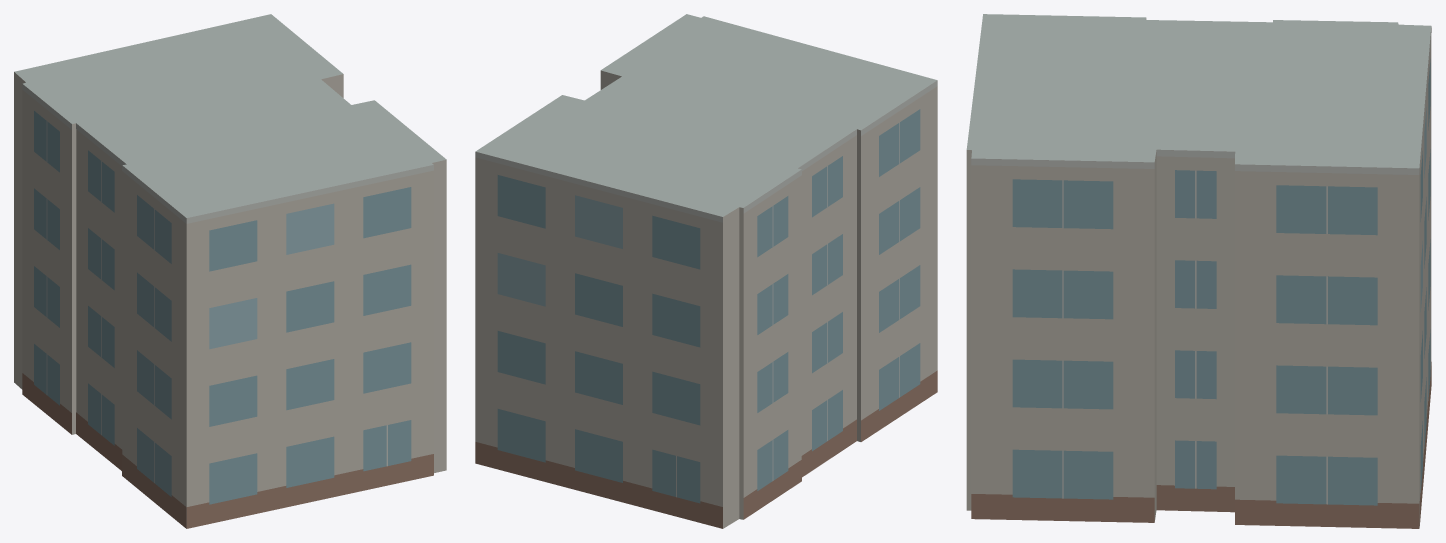
File: survey-upis-32664940.glb
The picture shows the model from 3 angles, left to right: view 1: azimuth 30°, elevation 25°; view 2: azimuth 150°, elevation 25°; view 3: azimuth 270°, elevation 25°; orthographic projection. The views are drawn at different scales.
Visible parts, largest first — view 1: survey-upis-32664940.tmp; view 2: survey-upis-32664940.tmp; view 3: survey-upis-32664940.tmp.
Part boxes in pixels (x1,y1,x2,y2): survey-upis-32664940.tmp: [14, 14, 446, 528]; survey-upis-32664940.tmp: [475, 14, 937, 528]; survey-upis-32664940.tmp: [966, 14, 1431, 528].
Bounding box in the file's own units: 12.09 × 13.15 × 15.38.
